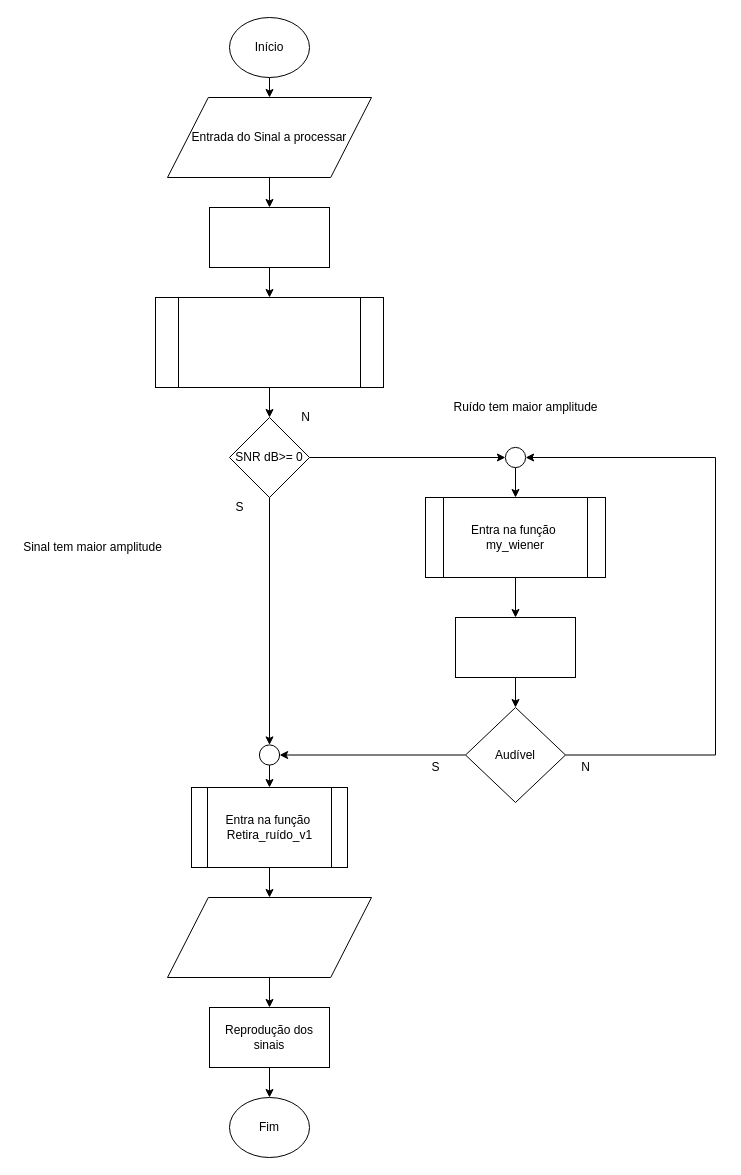
This 741x1175 diagram has some shape labels left out. The shapes that lost their labels are listed below. From the top down, each one's centre as x and y in pixels, then its label:
At point 269,237: "Reprodução do sinal de entrada".
At point 269,342: "Entra na função Aplicar_threshold_automatico_v1".
At point 515,647: "Reprodução do sinal filtrado".
At point 269,937: "Saída do Sinal Puro e do Sinal Ruído".
